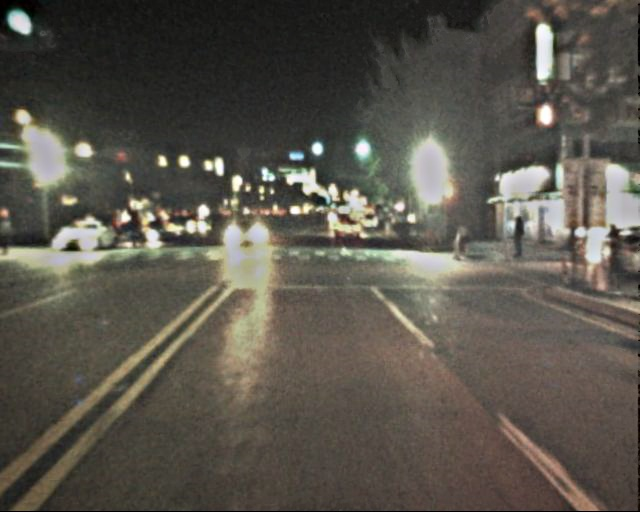person: (589, 225, 628, 298), (454, 217, 473, 263), (509, 216, 527, 261)
